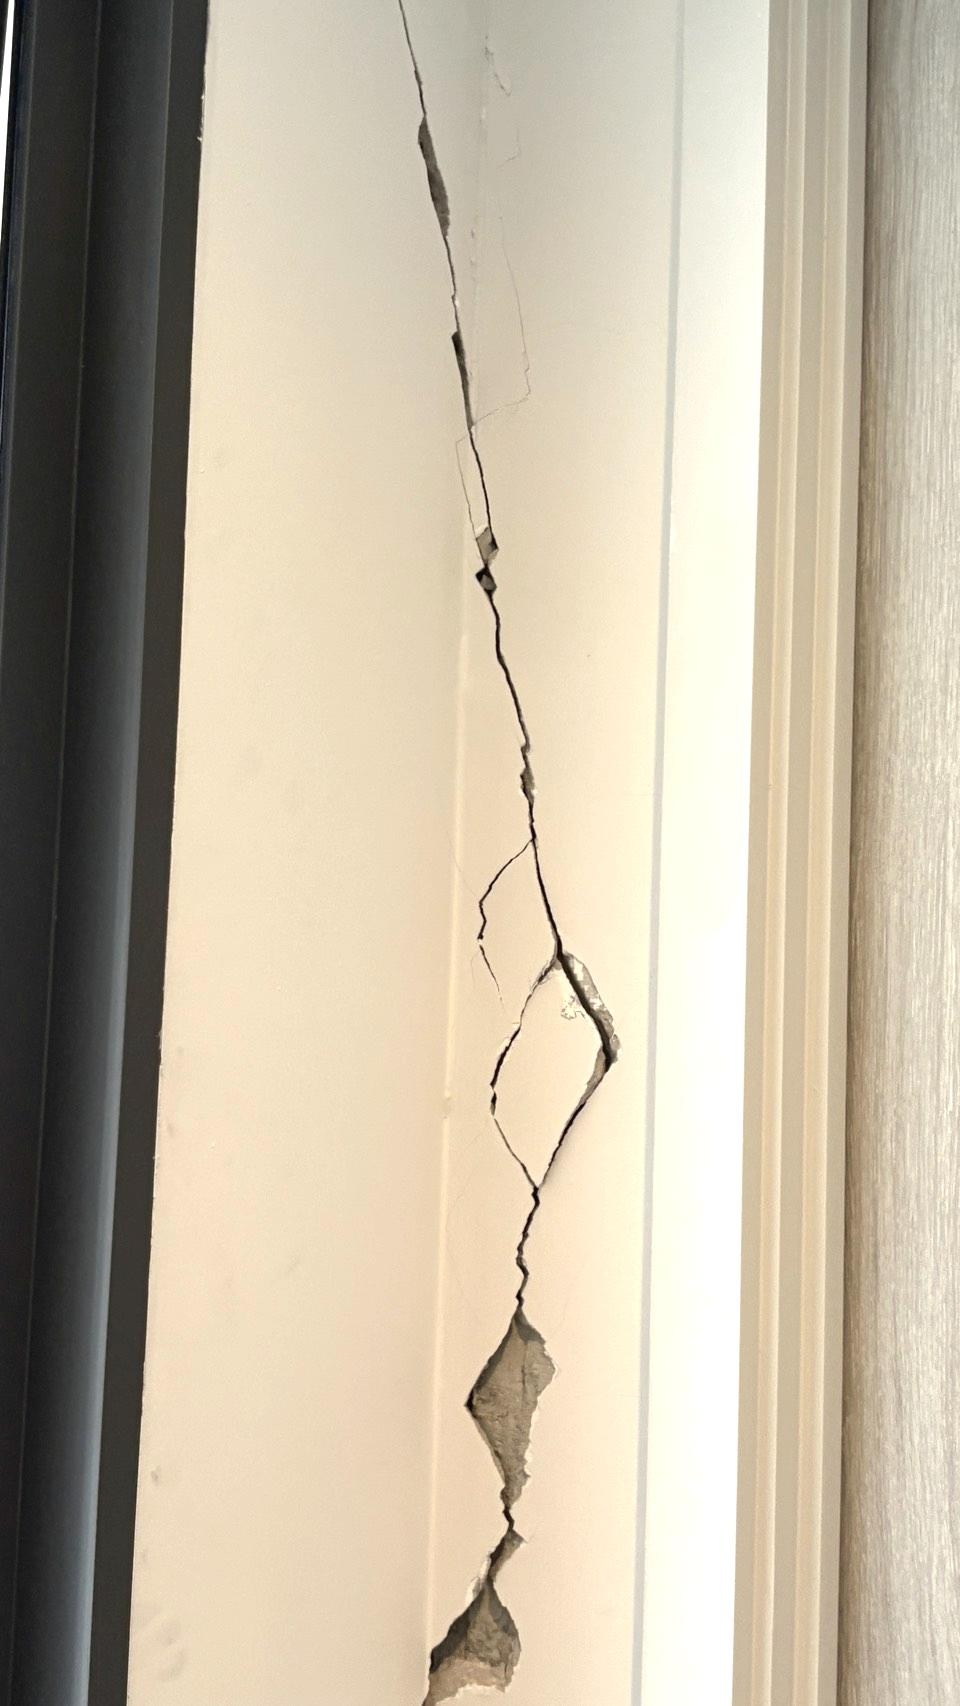High: (299, 4, 663, 1700)
